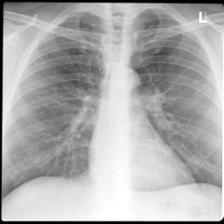tuberculosis: (3, 7, 222, 221)
